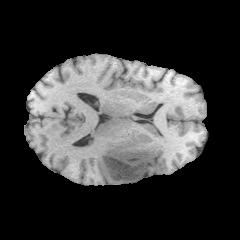glioma: (71, 146, 152, 184)
